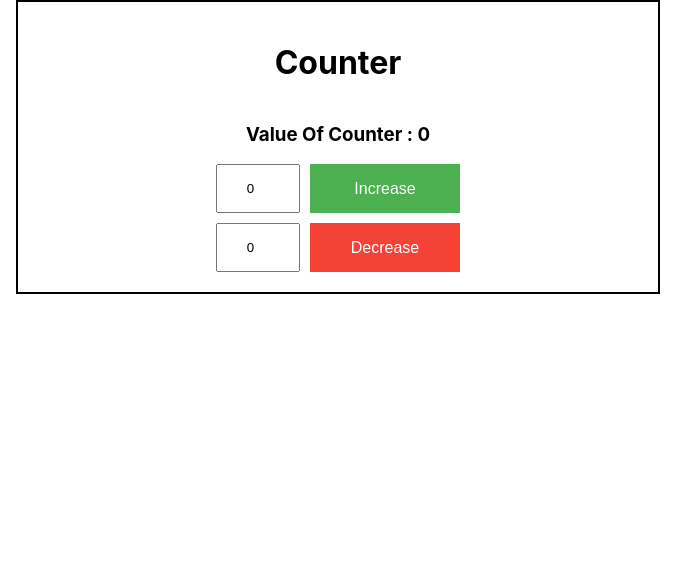
Scenario: template spec › should add multipl logs and delete them when clicked
The image size is (677, 563).
In the 1st number field: coordinates (258, 189) x1=216 y1=164 x2=300 y2=213, type "3"
Click the button with class "button_inc": coordinates (385, 189) x1=310 y1=164 x2=460 y2=213
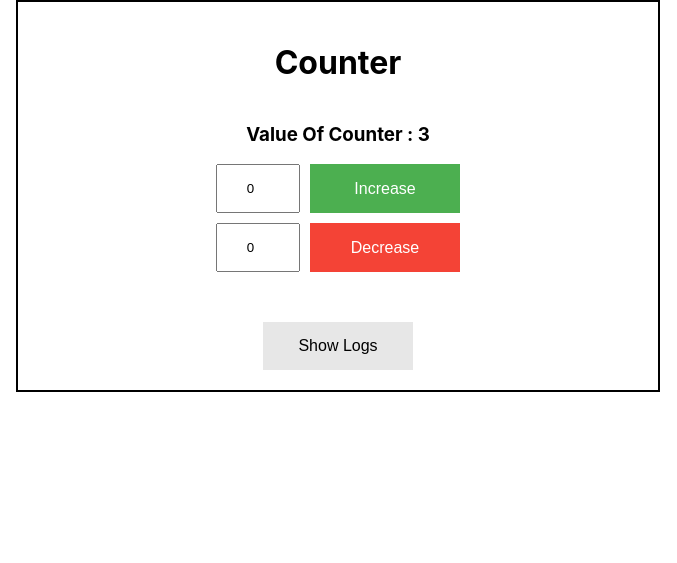
Expected: the heading "Value Of Counter : 3" is shown, x1=246 y1=123 x2=430 y2=146
In the 2nd number field: coordinates (258, 248) x1=216 y1=223 x2=300 y2=272, type "2"
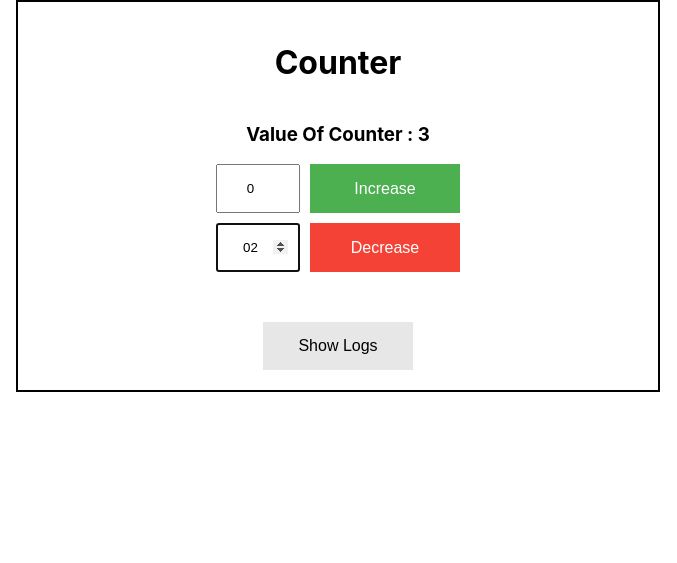
Click the button with class "button_dec": coordinates (385, 248) x1=310 y1=223 x2=460 y2=272
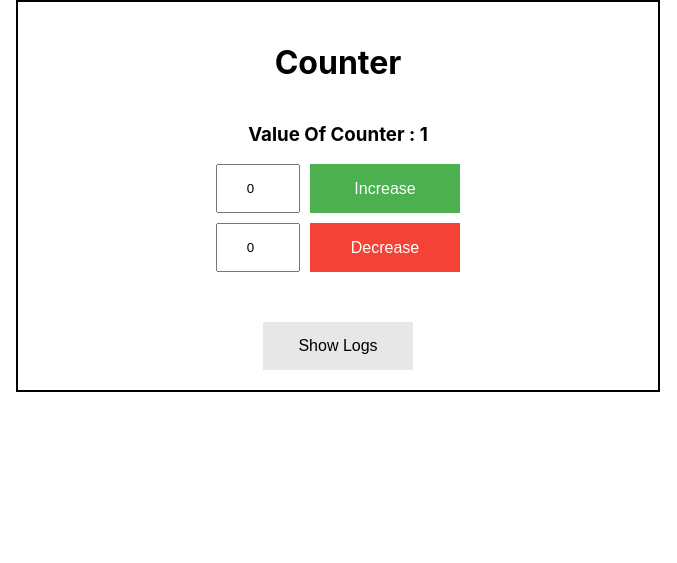
Expected: the heading "Value Of Counter : 1" is shown, x1=248 y1=123 x2=428 y2=146
# ensure both logs are present
Click the button with class "button_info": coordinates (338, 346) x1=263 y1=322 x2=413 y2=370
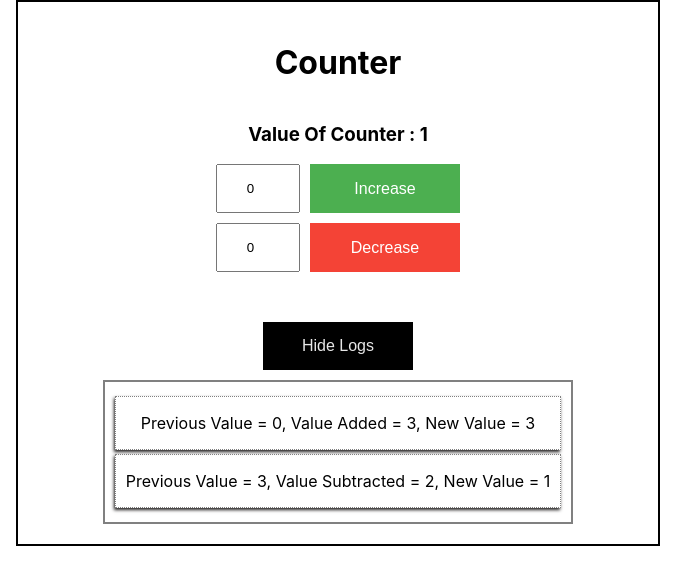
# delete the forst log
Click the 1st element with class "log_info": coordinates (339, 423) x1=115 y1=396 x2=562 y2=450
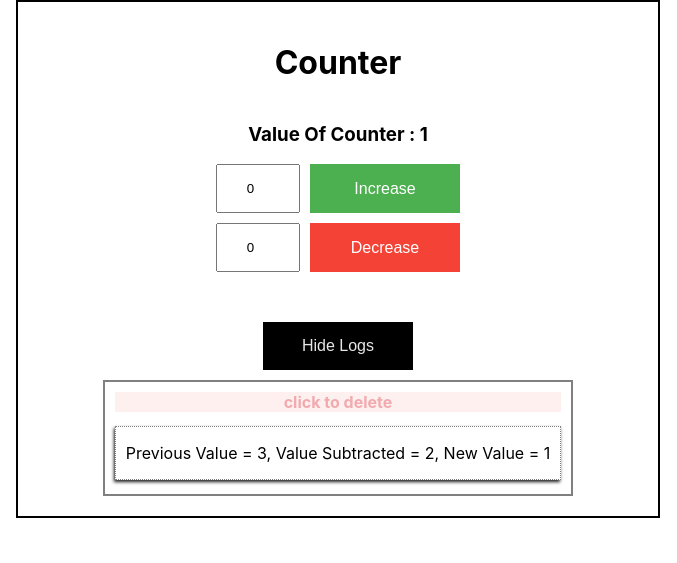
# delete the second log
Click the element with class "log_info": coordinates (339, 453) x1=115 y1=426 x2=562 y2=480
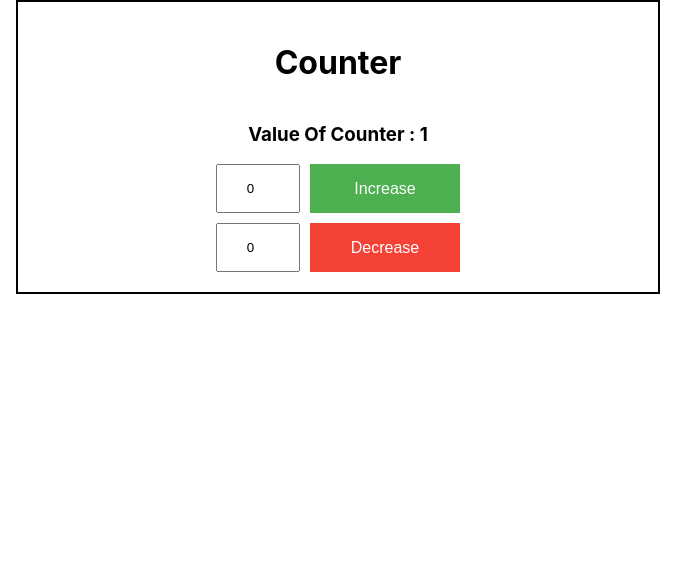
Expected: the element with class "log_info" is gone
